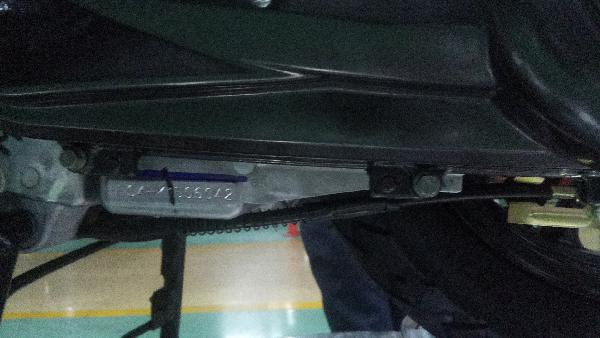box: (116, 184, 232, 201)
